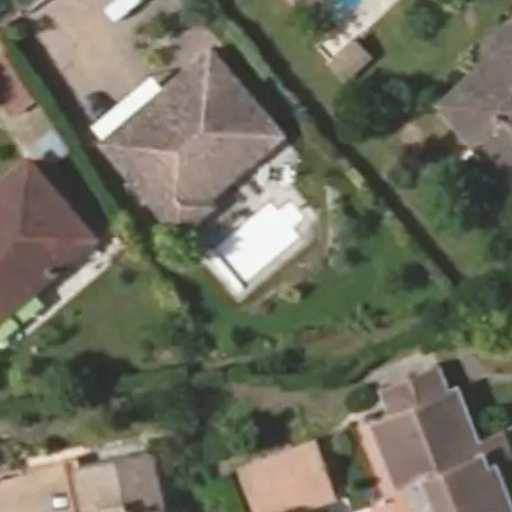pool: (209, 197, 313, 288)
